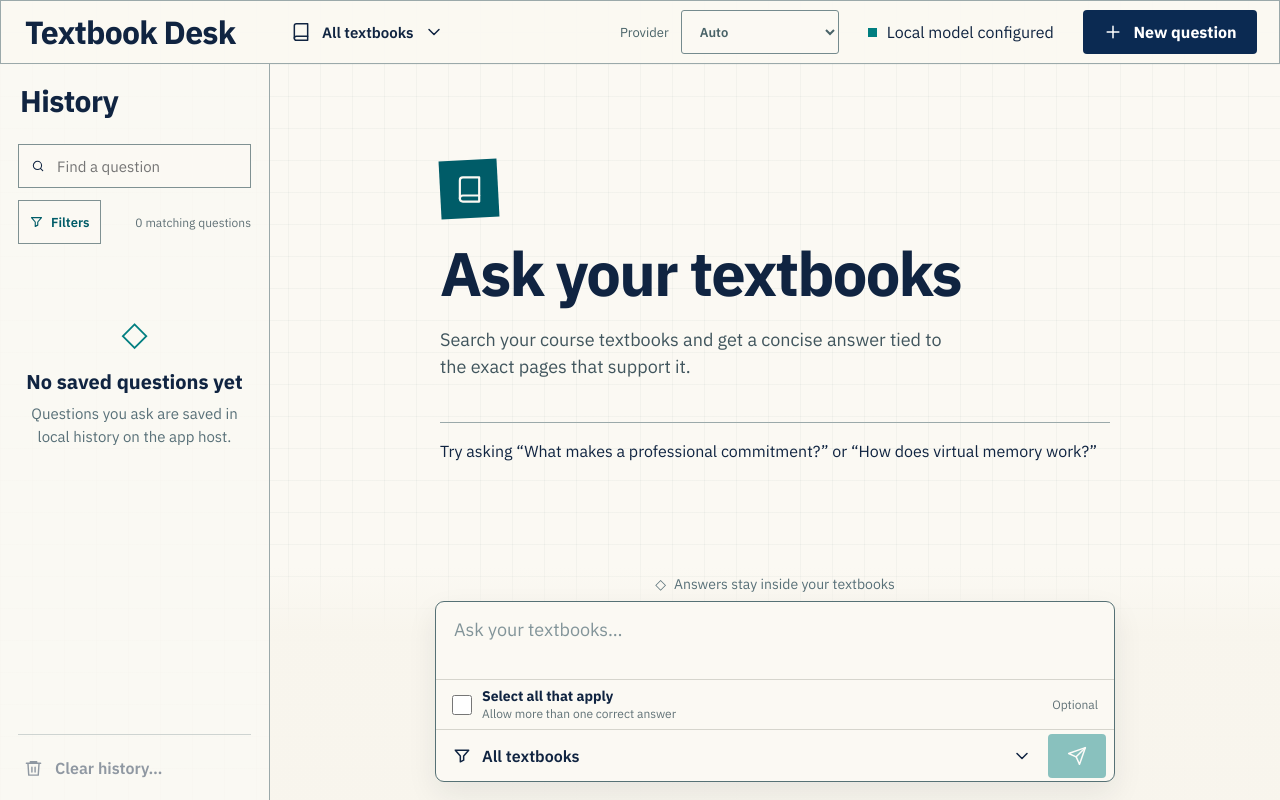
Test: Textbook Desk › submits the chosen provider and displays cited textbook evidence
The image size is (1280, 800).
Later steps or results of the test are not shown.
Select "Ollama" in the dropdown named "Answer provider" at (760, 32), box [681,10,839,54]
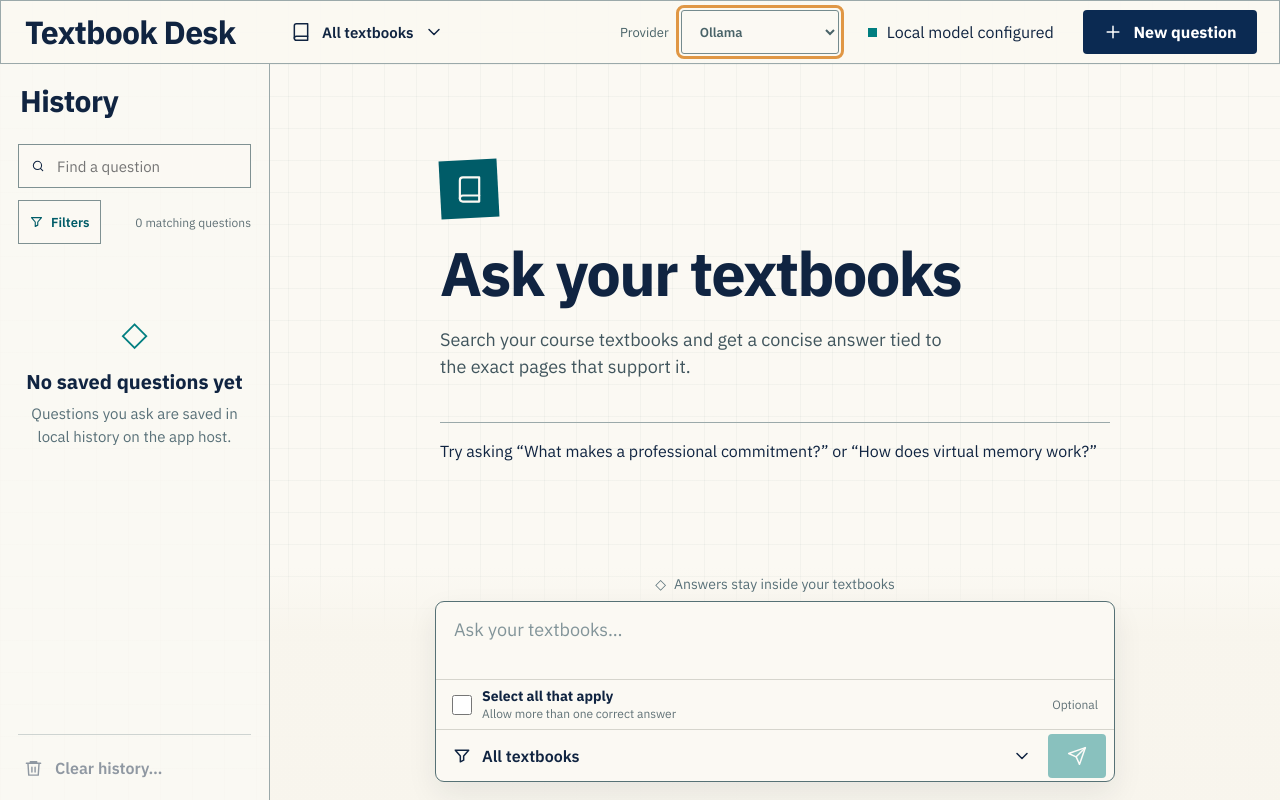
Type "Why is semantic HTML important?" into the text box with placeholder "Ask your textbooks…".
click(775, 638); type("Why is semantic HTML important?")  # box [436,602,1114,675]
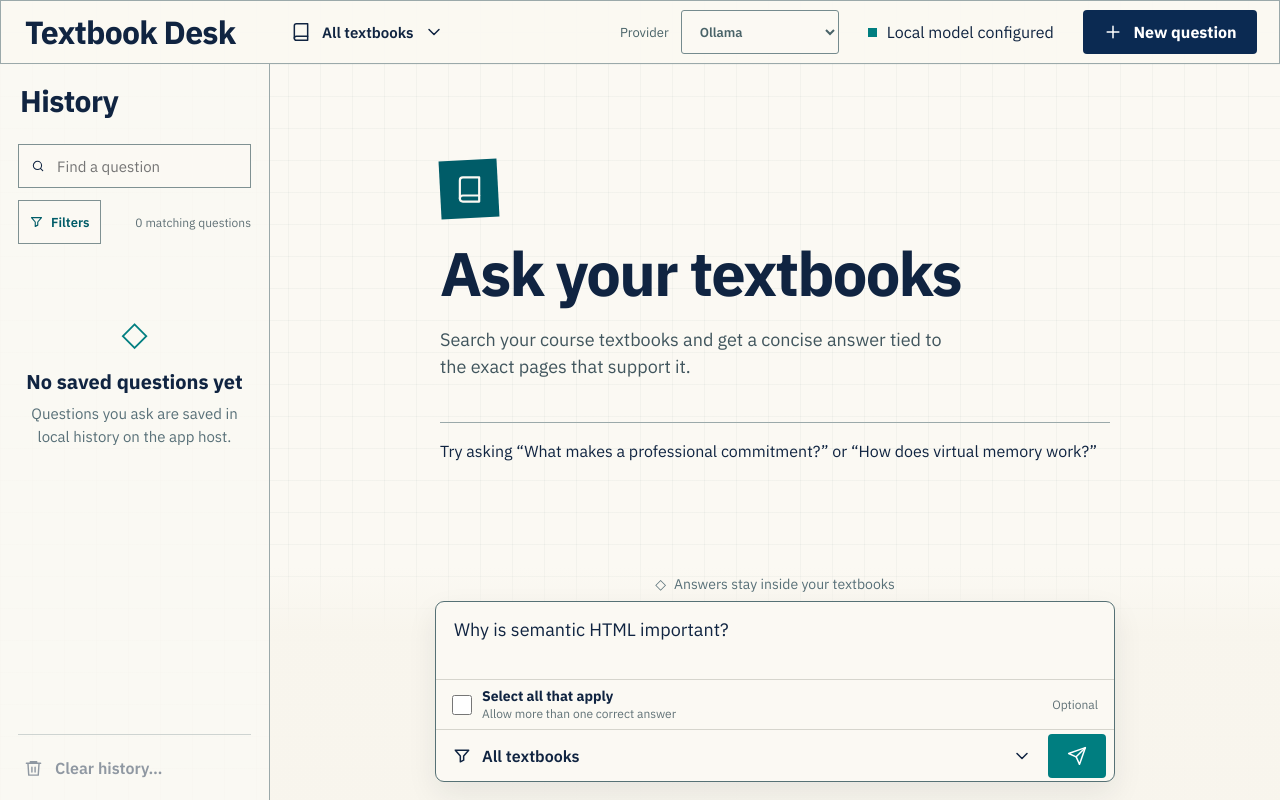
Click the button named "Ask question".
click(1077, 756)  # box [1048,734,1106,778]
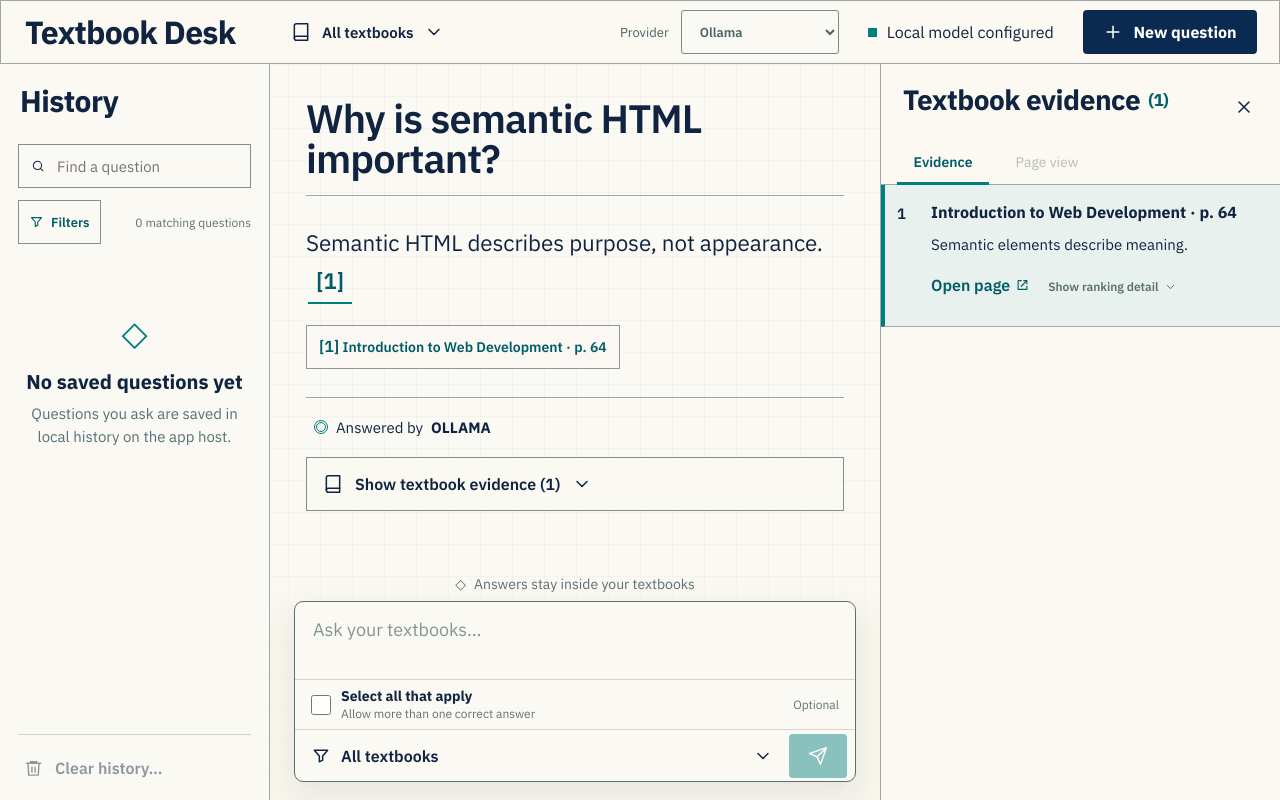
Expected: the text "Semantic HTML describes purpose, not appearance." is shown, [306,228,823,257]
Expected: the heading "Introduction to Web Development · p. 64" is shown, [931,202,1264,223]
Expected: the text "OLLAMA" is shown, [431,418,491,436]
